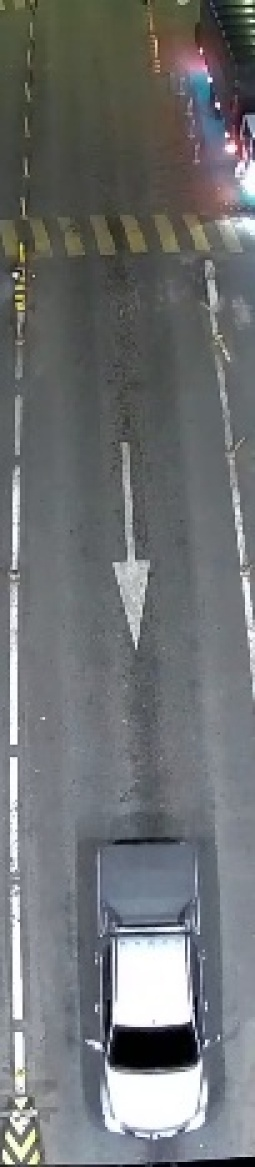car: (67, 834, 228, 1145)
truck: (179, 1, 254, 204)
